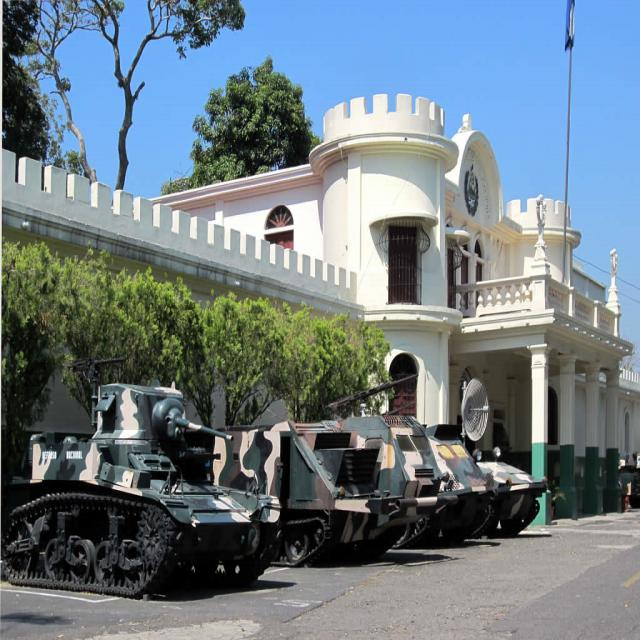tank: (0, 355, 281, 597), (212, 371, 456, 564), (384, 416, 512, 546), (468, 440, 548, 537)
